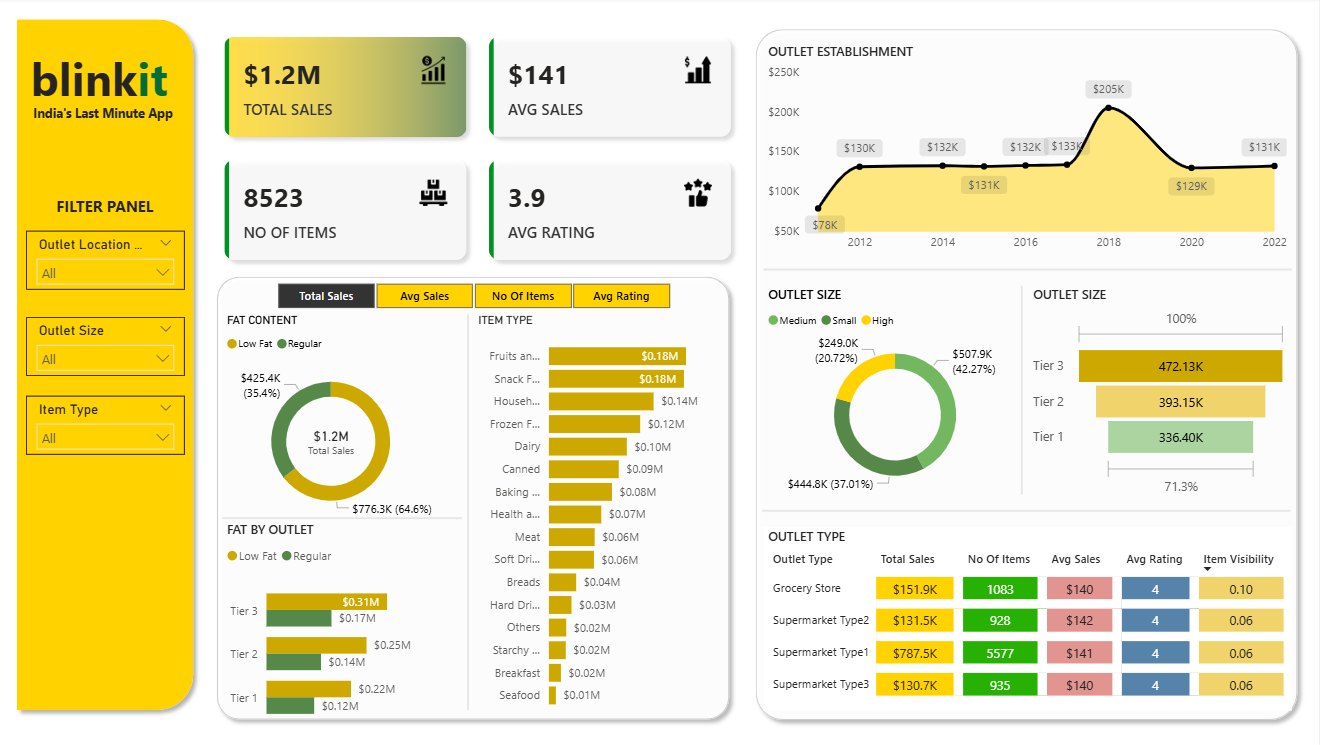

The page's visual inventory and layout, read from the dashboard file:
{"tool":"powerbi","page":{"name":"Page 1","canvas":[1400,800],"ordinal":0},"visuals":[{"type":"shape","box":[13.3,14.4,204.4,748.9],"z":0},{"type":"textbox","box":[31.2,47.8,167.8,80],"z":1000},{"type":"textbox","box":[34.4,108.9,173.3,37.8],"z":2000},{"type":"cardVisual","fields":{"Data":["BlinkIT Grocery Data.Total Sales","BlinkIT Grocery Data.Avg Sales","BlinkIT Grocery Data.Count of Rows","BlinkIT Grocery Data.Avg Rating"]},"box":[225,25,570,270],"z":3000},{"type":"shape","box":[225.5,287.3,560,486.4],"z":4000},{"type":"donutChart","title":"FAT CONTENT","fields":{"Y":["BlinkIT Grocery Data.Total Sales"],"Category":["BlinkIT Grocery Data.Item Fat Content"]},"box":[239.1,334.5,230,230],"z":5000},{"type":"slicer","fields":{"Values":["Metrics.Metrics"]},"box":[272.7,296.4,464.5,40],"z":6000},{"type":"cardVisual","fields":{"Data":["BlinkIT Grocery Data.Total Sales"]},"box":[311.8,439.1,85.5,60],"z":7000},{"type":"clusteredBarChart","title":"FAT BY OUTLET","fields":{"Y":["BlinkIT Grocery Data.Total Sales"],"Category":["BlinkIT Grocery Data.Outlet Location Type"],"Series":["BlinkIT Grocery Data.Item Fat Content"]},"box":[240,553.6,220,230],"z":8000},{"type":"shape","box":[239.2,545.4,253.8,13.1],"z":9000},{"type":"shape","box":[493.1,336.2,12.3,418.5],"z":10000},{"type":"barChart","title":"ITEM TYPE","fields":{"Y":["BlinkIT Grocery Data.Total Sales"],"Category":["BlinkIT Grocery Data.Item Type"]},"box":[505.6,334.4,266.7,428.9],"z":11000},{"type":"shape","box":[795.6,25.6,591.1,748.9],"z":12000},{"type":"lineChart","title":"OUTLET ESTABLISHMENT","fields":{"Category":["BlinkIT Grocery Data.Outlet Establishment Year"],"Y":["BlinkIT Grocery Data.Total Sales"]},"box":[812.2,47.8,558.9,230],"z":13000},{"type":"shape","box":[812.2,282.2,558.9,13.3],"z":14000},{"type":"donutChart","title":"OUTLET SIZE","fields":{"Y":["BlinkIT Grocery Data.Total Sales"],"Category":["BlinkIT Grocery Data.Outlet Size"]},"box":[812.2,305.7,278.9,227.8],"z":15000},{"type":"shape","box":[1078.9,305.7,12.2,221.1],"z":16000},{"type":"funnel","title":"OUTLET SIZE","fields":{"Y":["Sum(BlinkIT Grocery Data.Sales)"],"Category":["BlinkIT Grocery Data.Outlet Location Type"]},"box":[1092.2,305.7,278.9,227.8],"z":17000},{"type":"shape","box":[811.1,536.7,558.9,13.3],"z":18000},{"type":"pivotTable","title":"OUTLET TYPE","fields":{"Rows":["BlinkIT Grocery Data.Outlet Type"],"Values":["BlinkIT Grocery Data.Total Sales","BlinkIT Grocery Data.No Of Items","BlinkIT Grocery Data.Avg Sales","BlinkIT Grocery Data.Avg Rating","Avg(BlinkIT Grocery Data.Item Visibility)"]},"box":[812.2,561.1,558.9,194.4],"z":19000},{"type":"slicer","fields":{"Values":["BlinkIT Grocery Data.Outlet Location Type"]},"box":[31.1,247.8,167.8,62.2],"z":20000},{"type":"slicer","fields":{"Values":["BlinkIT Grocery Data.Outlet Size"]},"box":[31.1,338.9,167.8,62.2],"z":21000},{"type":"slicer","fields":{"Values":["BlinkIT Grocery Data.Item Type"]},"box":[31.1,422.2,167.8,62.2],"z":22000},{"type":"textbox","box":[51.8,205.3,127.6,31.8],"z":23000}]}

Visuals, with their boxes in screenshot pixels (x1, y1, x2, y2), scaled from the page's 1400x800 canvas onto the 1320x745 screenshot:
shape: crop(13, 13, 205, 711)
textbox: crop(29, 45, 188, 119)
textbox: crop(32, 101, 196, 137)
cardVisual - BlinkIT Grocery Data.Total Sales x BlinkIT Grocery Data.Avg Sales: crop(212, 23, 750, 275)
shape: crop(213, 268, 741, 721)
"FAT CONTENT" donutChart: crop(225, 312, 442, 526)
slicer - Metrics.Metrics: crop(257, 276, 695, 313)
cardVisual - BlinkIT Grocery Data.Total Sales: crop(294, 409, 375, 465)
"FAT BY OUTLET" clusteredBarChart: crop(226, 516, 434, 730)
shape: crop(226, 508, 465, 520)
shape: crop(465, 313, 477, 703)
"ITEM TYPE" barChart: crop(477, 311, 728, 711)
shape: crop(750, 24, 1307, 721)
"OUTLET ESTABLISHMENT" lineChart: crop(766, 45, 1293, 259)
shape: crop(766, 263, 1293, 275)
"OUTLET SIZE" donutChart: crop(766, 285, 1029, 497)
shape: crop(1017, 285, 1029, 491)
"OUTLET SIZE" funnel: crop(1030, 285, 1293, 497)
shape: crop(765, 500, 1292, 512)
"OUTLET TYPE" pivotTable: crop(766, 523, 1293, 704)
slicer - BlinkIT Grocery Data.Outlet Location Type: crop(29, 231, 188, 289)
slicer - BlinkIT Grocery Data.Outlet Size: crop(29, 316, 188, 374)
slicer - BlinkIT Grocery Data.Item Type: crop(29, 393, 188, 451)
textbox: crop(49, 191, 169, 221)
